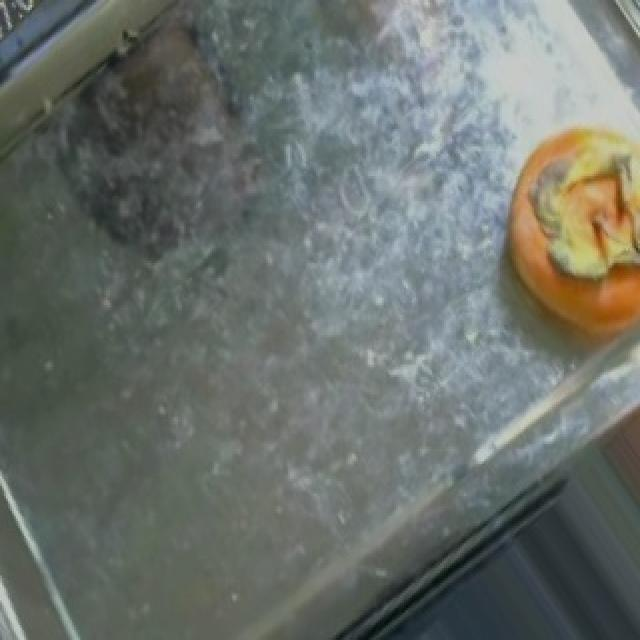Fruit: (492, 99, 640, 318), (588, 365, 640, 553)
